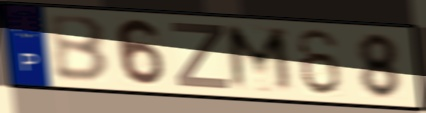6: (113, 16, 167, 89), (296, 27, 345, 98)
8: (354, 31, 404, 101)
B: (46, 15, 112, 85)
M: (223, 22, 299, 97)
Z: (169, 20, 233, 92)
